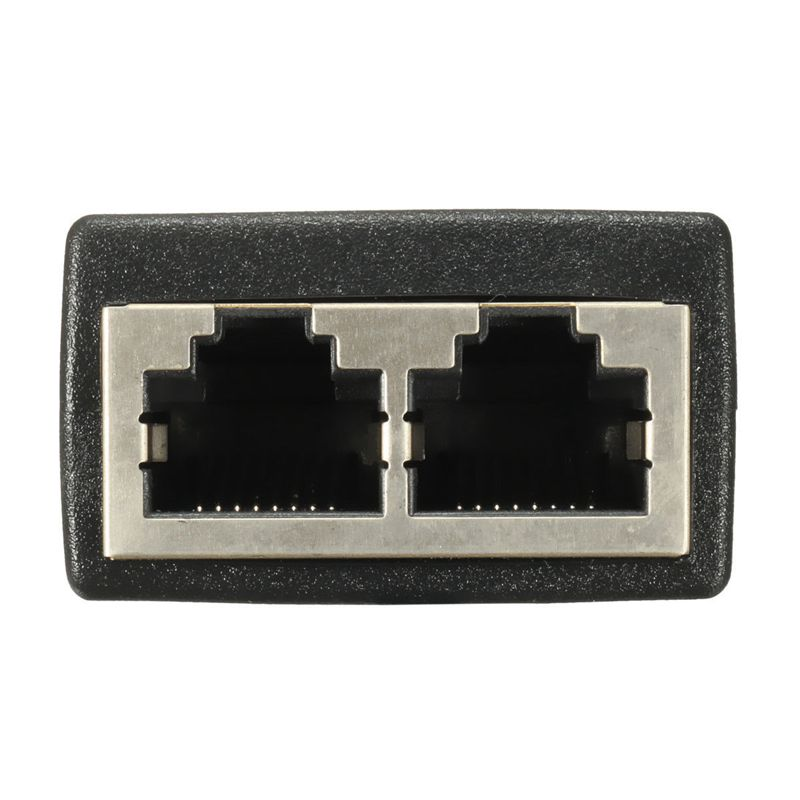lan: (106, 303, 395, 550), (396, 300, 675, 547)
